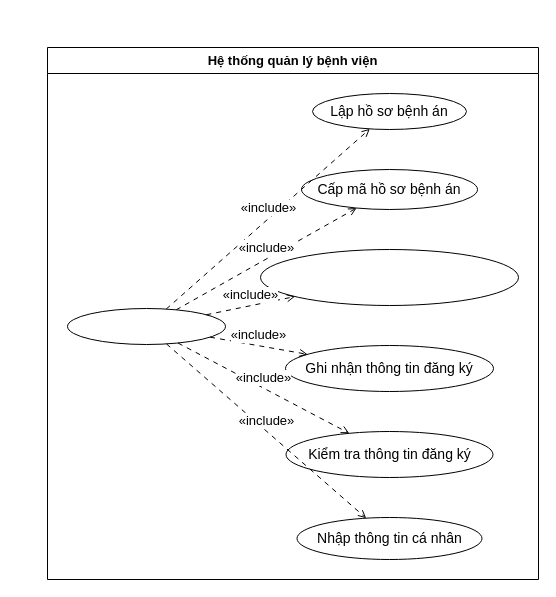
This 556x597 diagram has some shape labels left out. Here are the shapes that lost their labels. From the top down, the centre of each, then its label:
At point 389,277: "Thu lệ phí quản lý hồ sơ hằng năm".
At point 146,326: "Đăng ký bệnh nhân".
